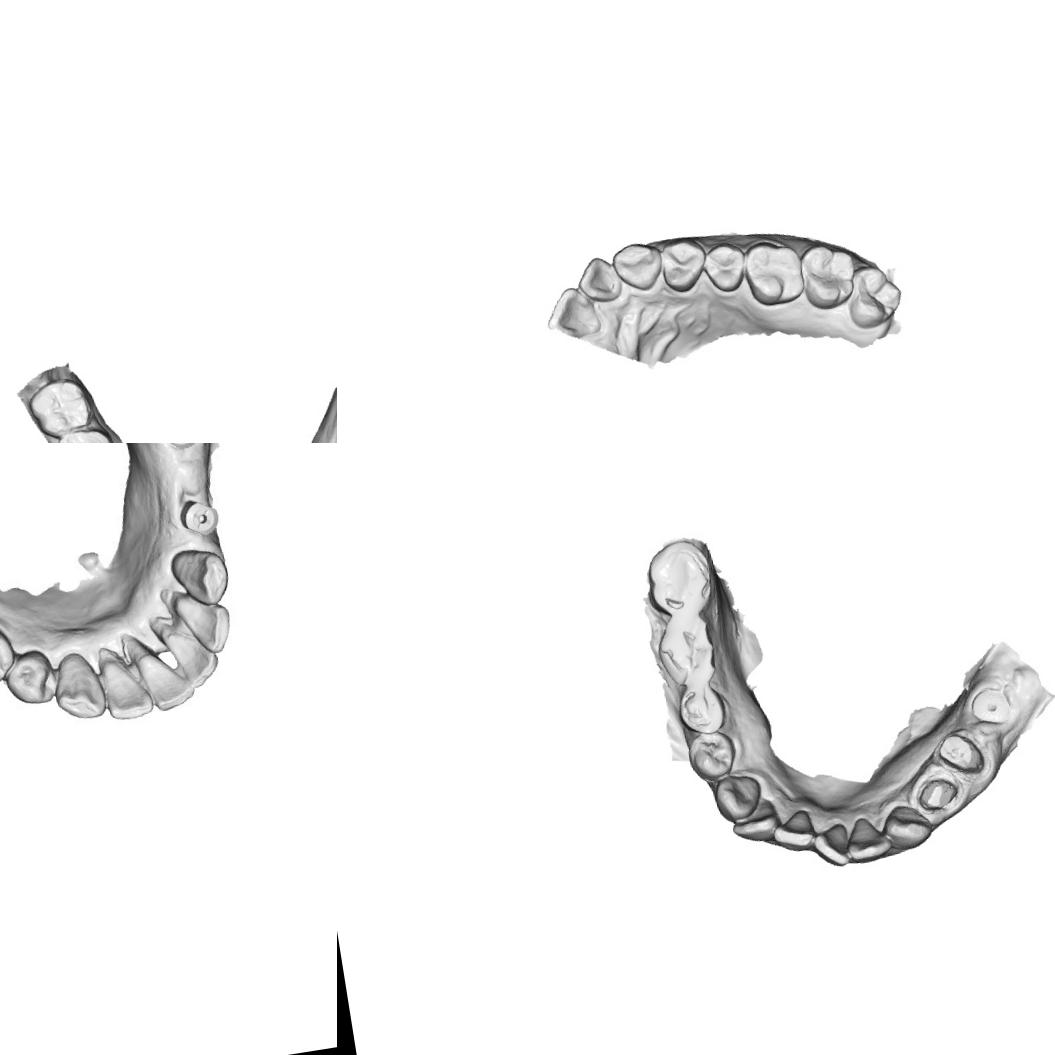canine: (169, 543, 234, 607), (49, 654, 108, 724), (609, 239, 666, 295), (879, 800, 935, 854), (711, 771, 766, 825)
crown: (934, 725, 989, 782), (913, 771, 962, 815)
implant: (966, 684, 1016, 730)
implant_plus: (175, 494, 224, 540)
incisor: (158, 616, 224, 691), (133, 637, 198, 713), (172, 588, 236, 661), (96, 642, 150, 723), (540, 282, 604, 343), (573, 253, 625, 306), (842, 812, 894, 865), (770, 806, 818, 854), (808, 821, 854, 871), (728, 805, 783, 846)
molar: (640, 535, 718, 620), (650, 610, 722, 690), (24, 373, 96, 443), (739, 235, 807, 309), (797, 239, 861, 314), (842, 259, 906, 332), (50, 423, 127, 443)
premolar: (2, 647, 60, 710), (657, 233, 712, 296), (672, 680, 730, 739), (684, 728, 740, 784), (700, 238, 752, 295), (0, 627, 16, 687)
